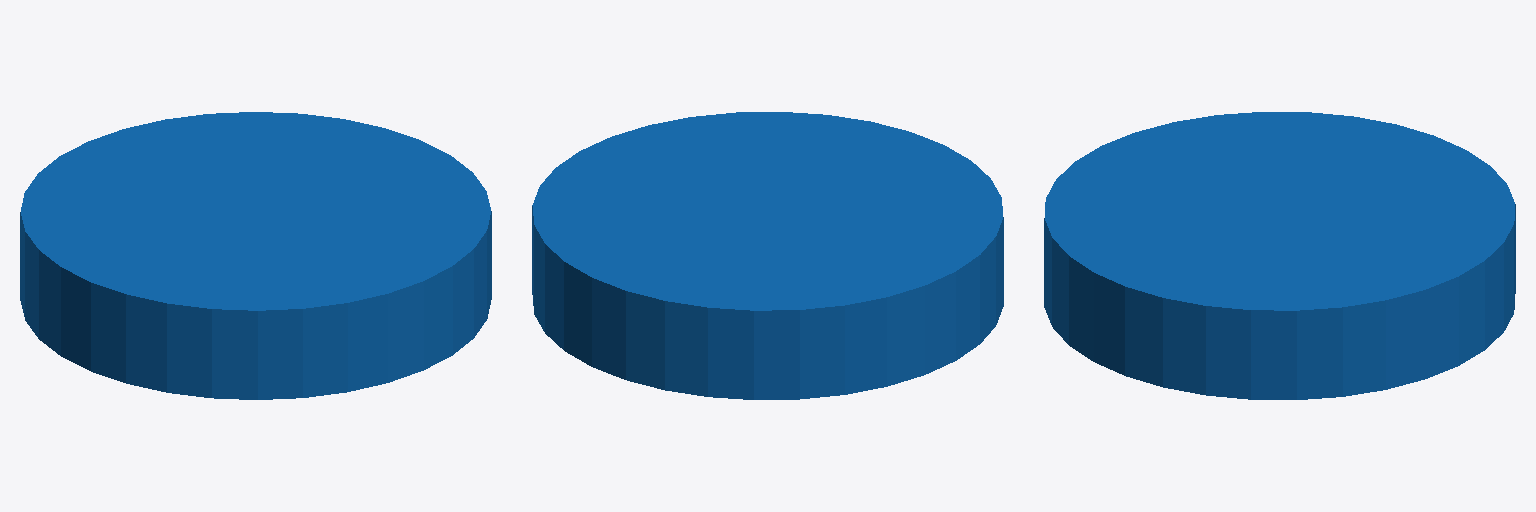
robot.urdf — Interference:
<?xml version="1.0"?>
<robot name="Interference">
  <link name="baseLink">
    <inertial>
      <origin xyz="0.0 0.0 0.0" rpy="0.0 0.0 0.0"/>
      <inertia ixx="0.0" ixy="0.0" ixz="0.0" iyy="0.0" iyz="0.0" izz="0.0"/>
      <mass value="0"/>
    </inertial>
    <visual>
      <origin xyz="0.0 0.0 0.0" rpy="0.0 0.0 -0.12430550174396915"/>
      <geometry>
        <cylinder radius="0.023895113512448104" length="0.01"/>
      </geometry>
      <material name="color">
        <color rgba="0.11217195570693816 0.4711639872243266 0.7556872356312037 1.0"/>
      </material>
    </visual>
  </link>
</robot>

--- Facts derived from the render (not from the file) ---
3 views of the same robot in one strip: view 1: azimuth 30°, elevation 25°; view 2: azimuth 150°, elevation 25°; view 3: azimuth 270°, elevation 25° (orthographic).
Robot: Interference — 1 links, 0 joints (none); root link baseLink; default pose: all joints at 0.
Visible links, largest first — view 1: baseLink; view 2: baseLink; view 3: baseLink.
Boxes of the visible links, <box> form: baseLink: <box>20,112,491,399</box>; baseLink: <box>532,112,1003,399</box>; baseLink: <box>1044,112,1515,399</box>.
Size in the robot's own frame: 0.0477 by 0.0477 by 0.01 metres.
Geometry: primitives only (box / cylinder / sphere), no mesh files.